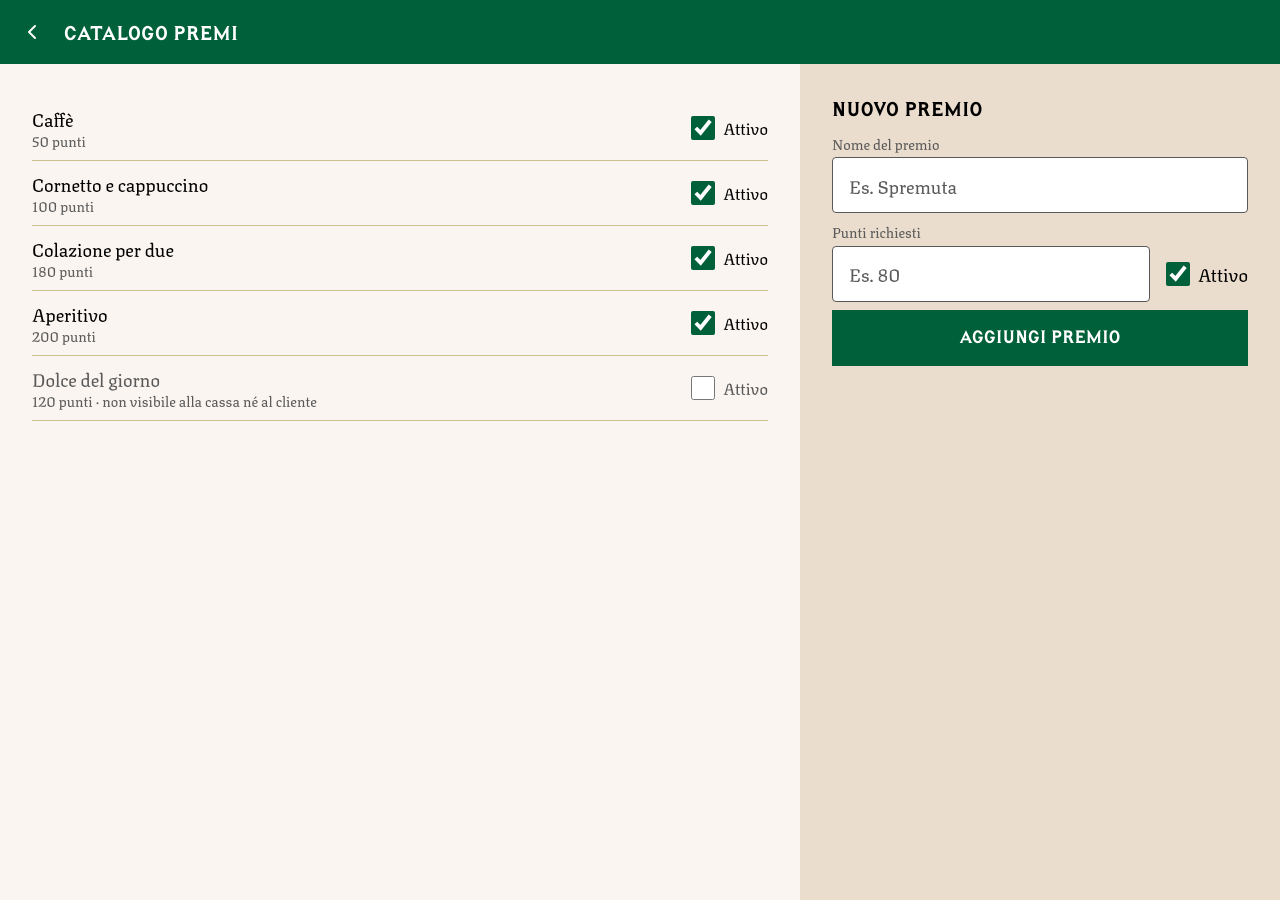
Test case: Catalogo premi: the Attivo box of a row › not-found: restores the box, says "Premio non salvato: riprova." and reloads the list
The image size is (1280, 900).
Click the checkbox named "Caffè attivo". click: x=703, y=128
box: [691, 116, 715, 140]
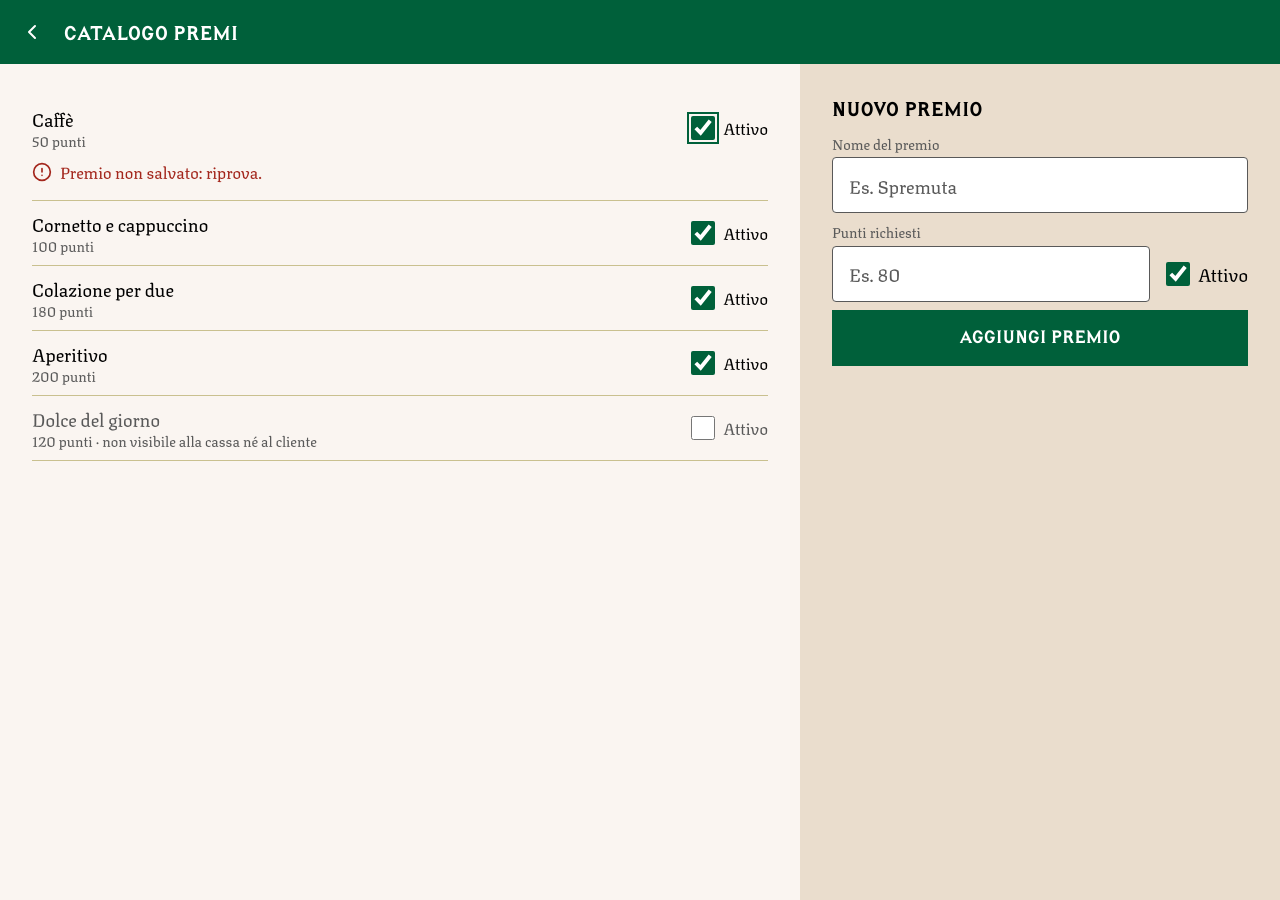
Now the message reads "Premio non salvato: riprova.", box [60, 159, 262, 184]
